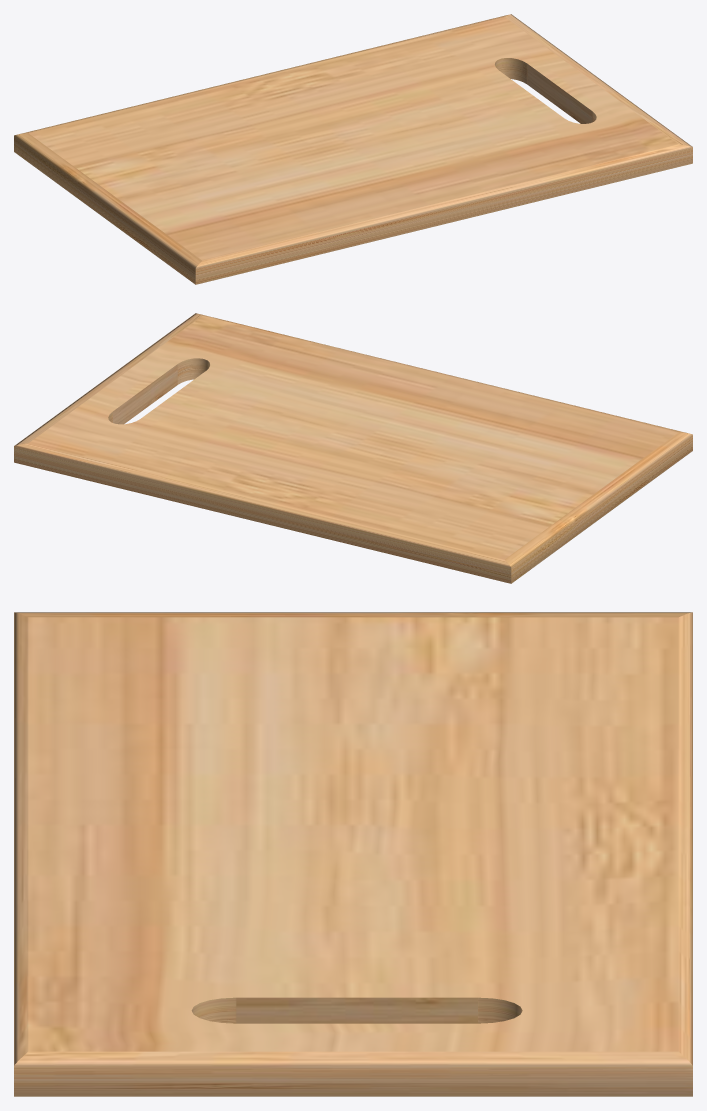
The model's file is CuttingBoardFBX.fbx.
The picture shows the model from 3 angles, top to bottom: view 1: azimuth 30°, elevation 25°; view 2: azimuth 150°, elevation 25°; view 3: azimuth 270°, elevation 25°; orthographic projection. The views are drawn at different scales.
Visible parts, largest first — view 1: pCube3; view 2: pCube3; view 3: pCube3.
Part boxes in pixels (x1,y1,x2,y2): pCube3: (14, 14, 692, 284); pCube3: (14, 313, 692, 583); pCube3: (14, 612, 692, 1096).
Size of the model in its own units: 1.58 by 0.0639 by 1.
1 material, 1 textured.
